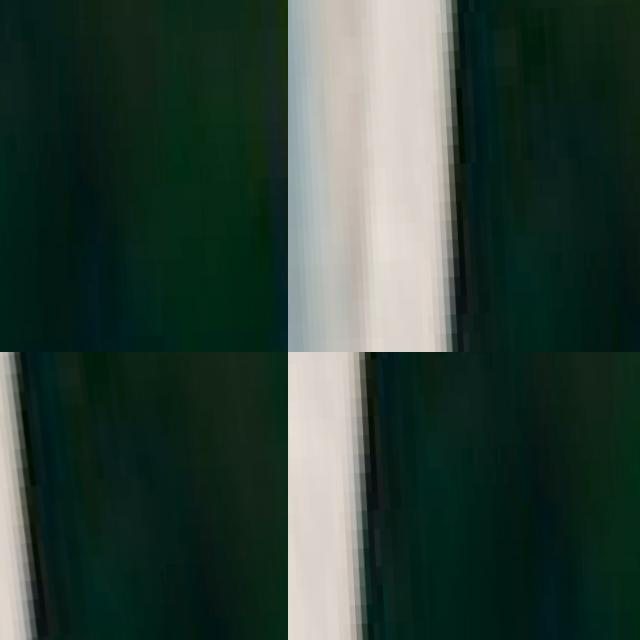drone: (0, 352, 288, 640)
